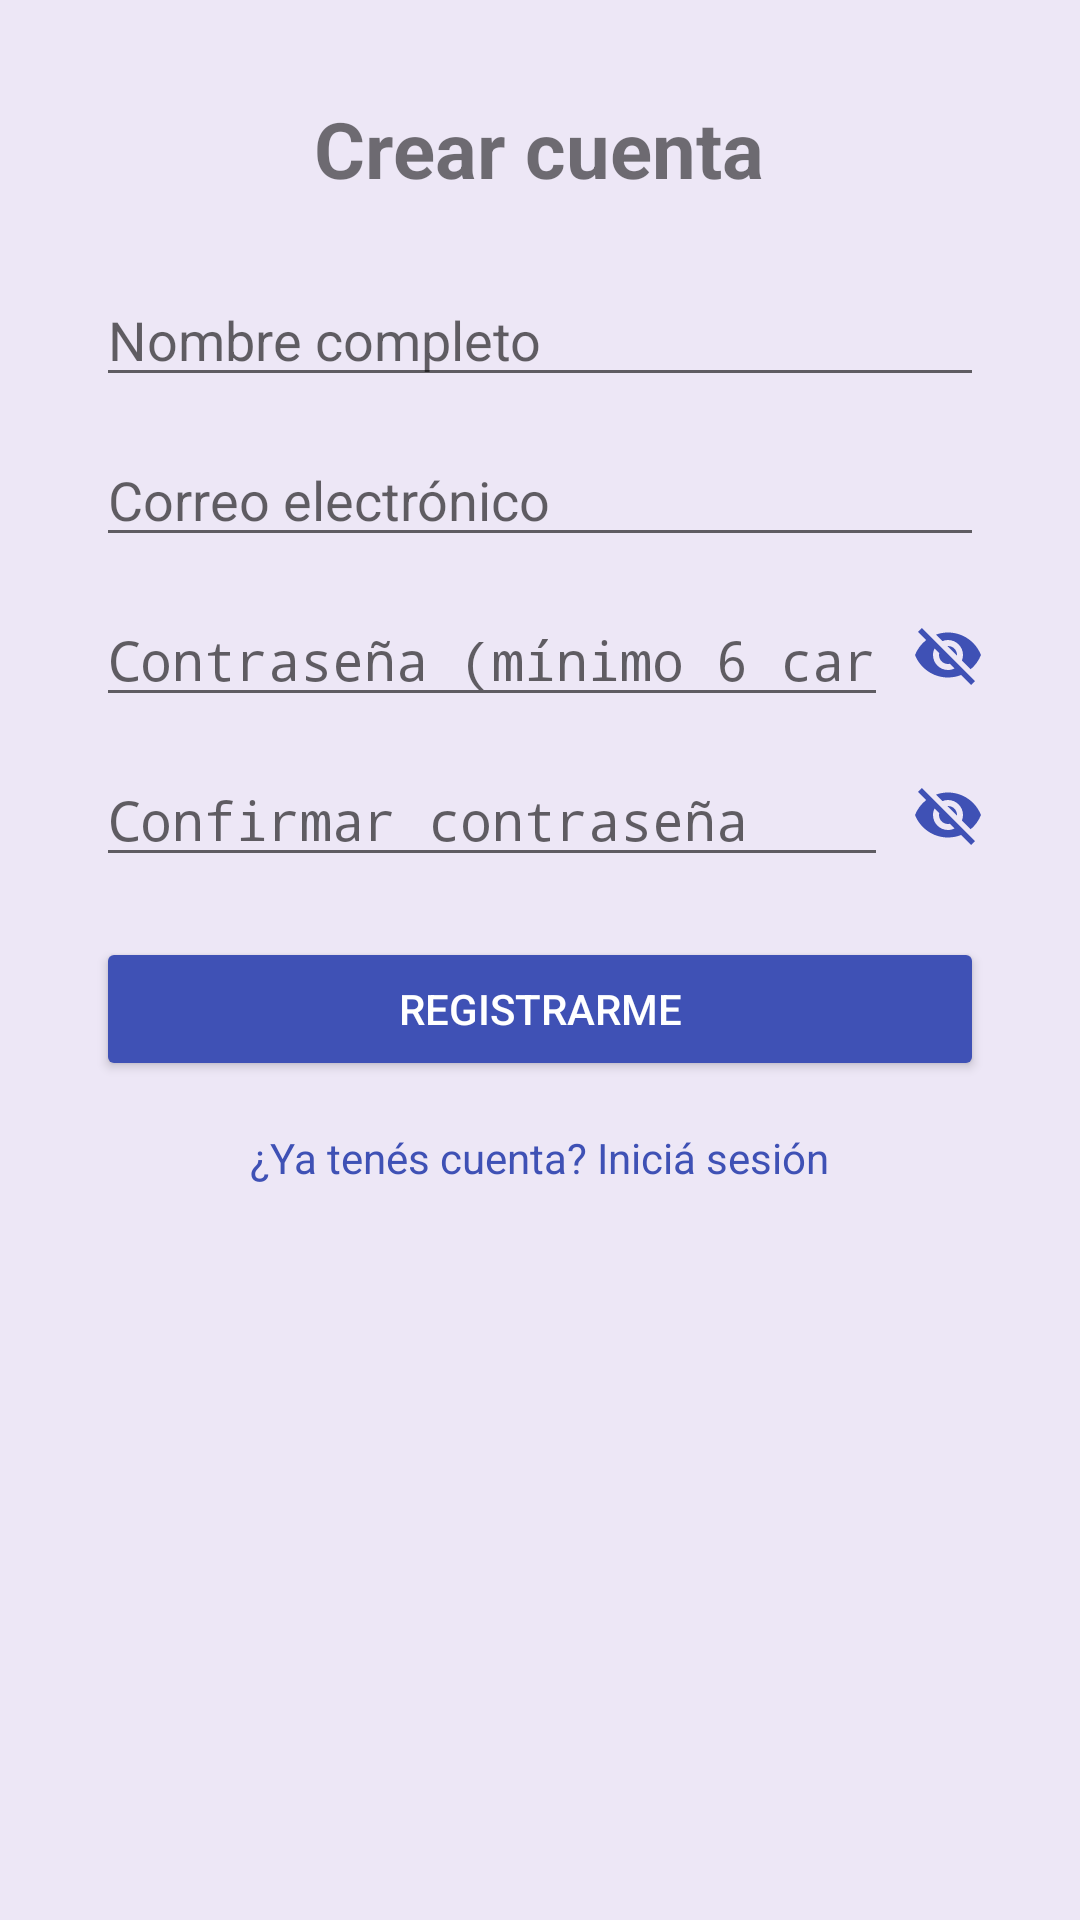

Named icons in this screenshot (1080px x 1920px) and their bounding boxes, detection(x1, y1, x2, y2):
Mostrar u ocultar confirmación de contraseña: detection(915, 788, 981, 845)
Mostrar u ocultar contraseña: detection(915, 628, 981, 685)
